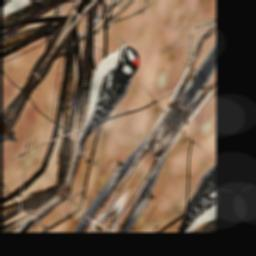Woodpecker: (54, 30, 146, 158)
